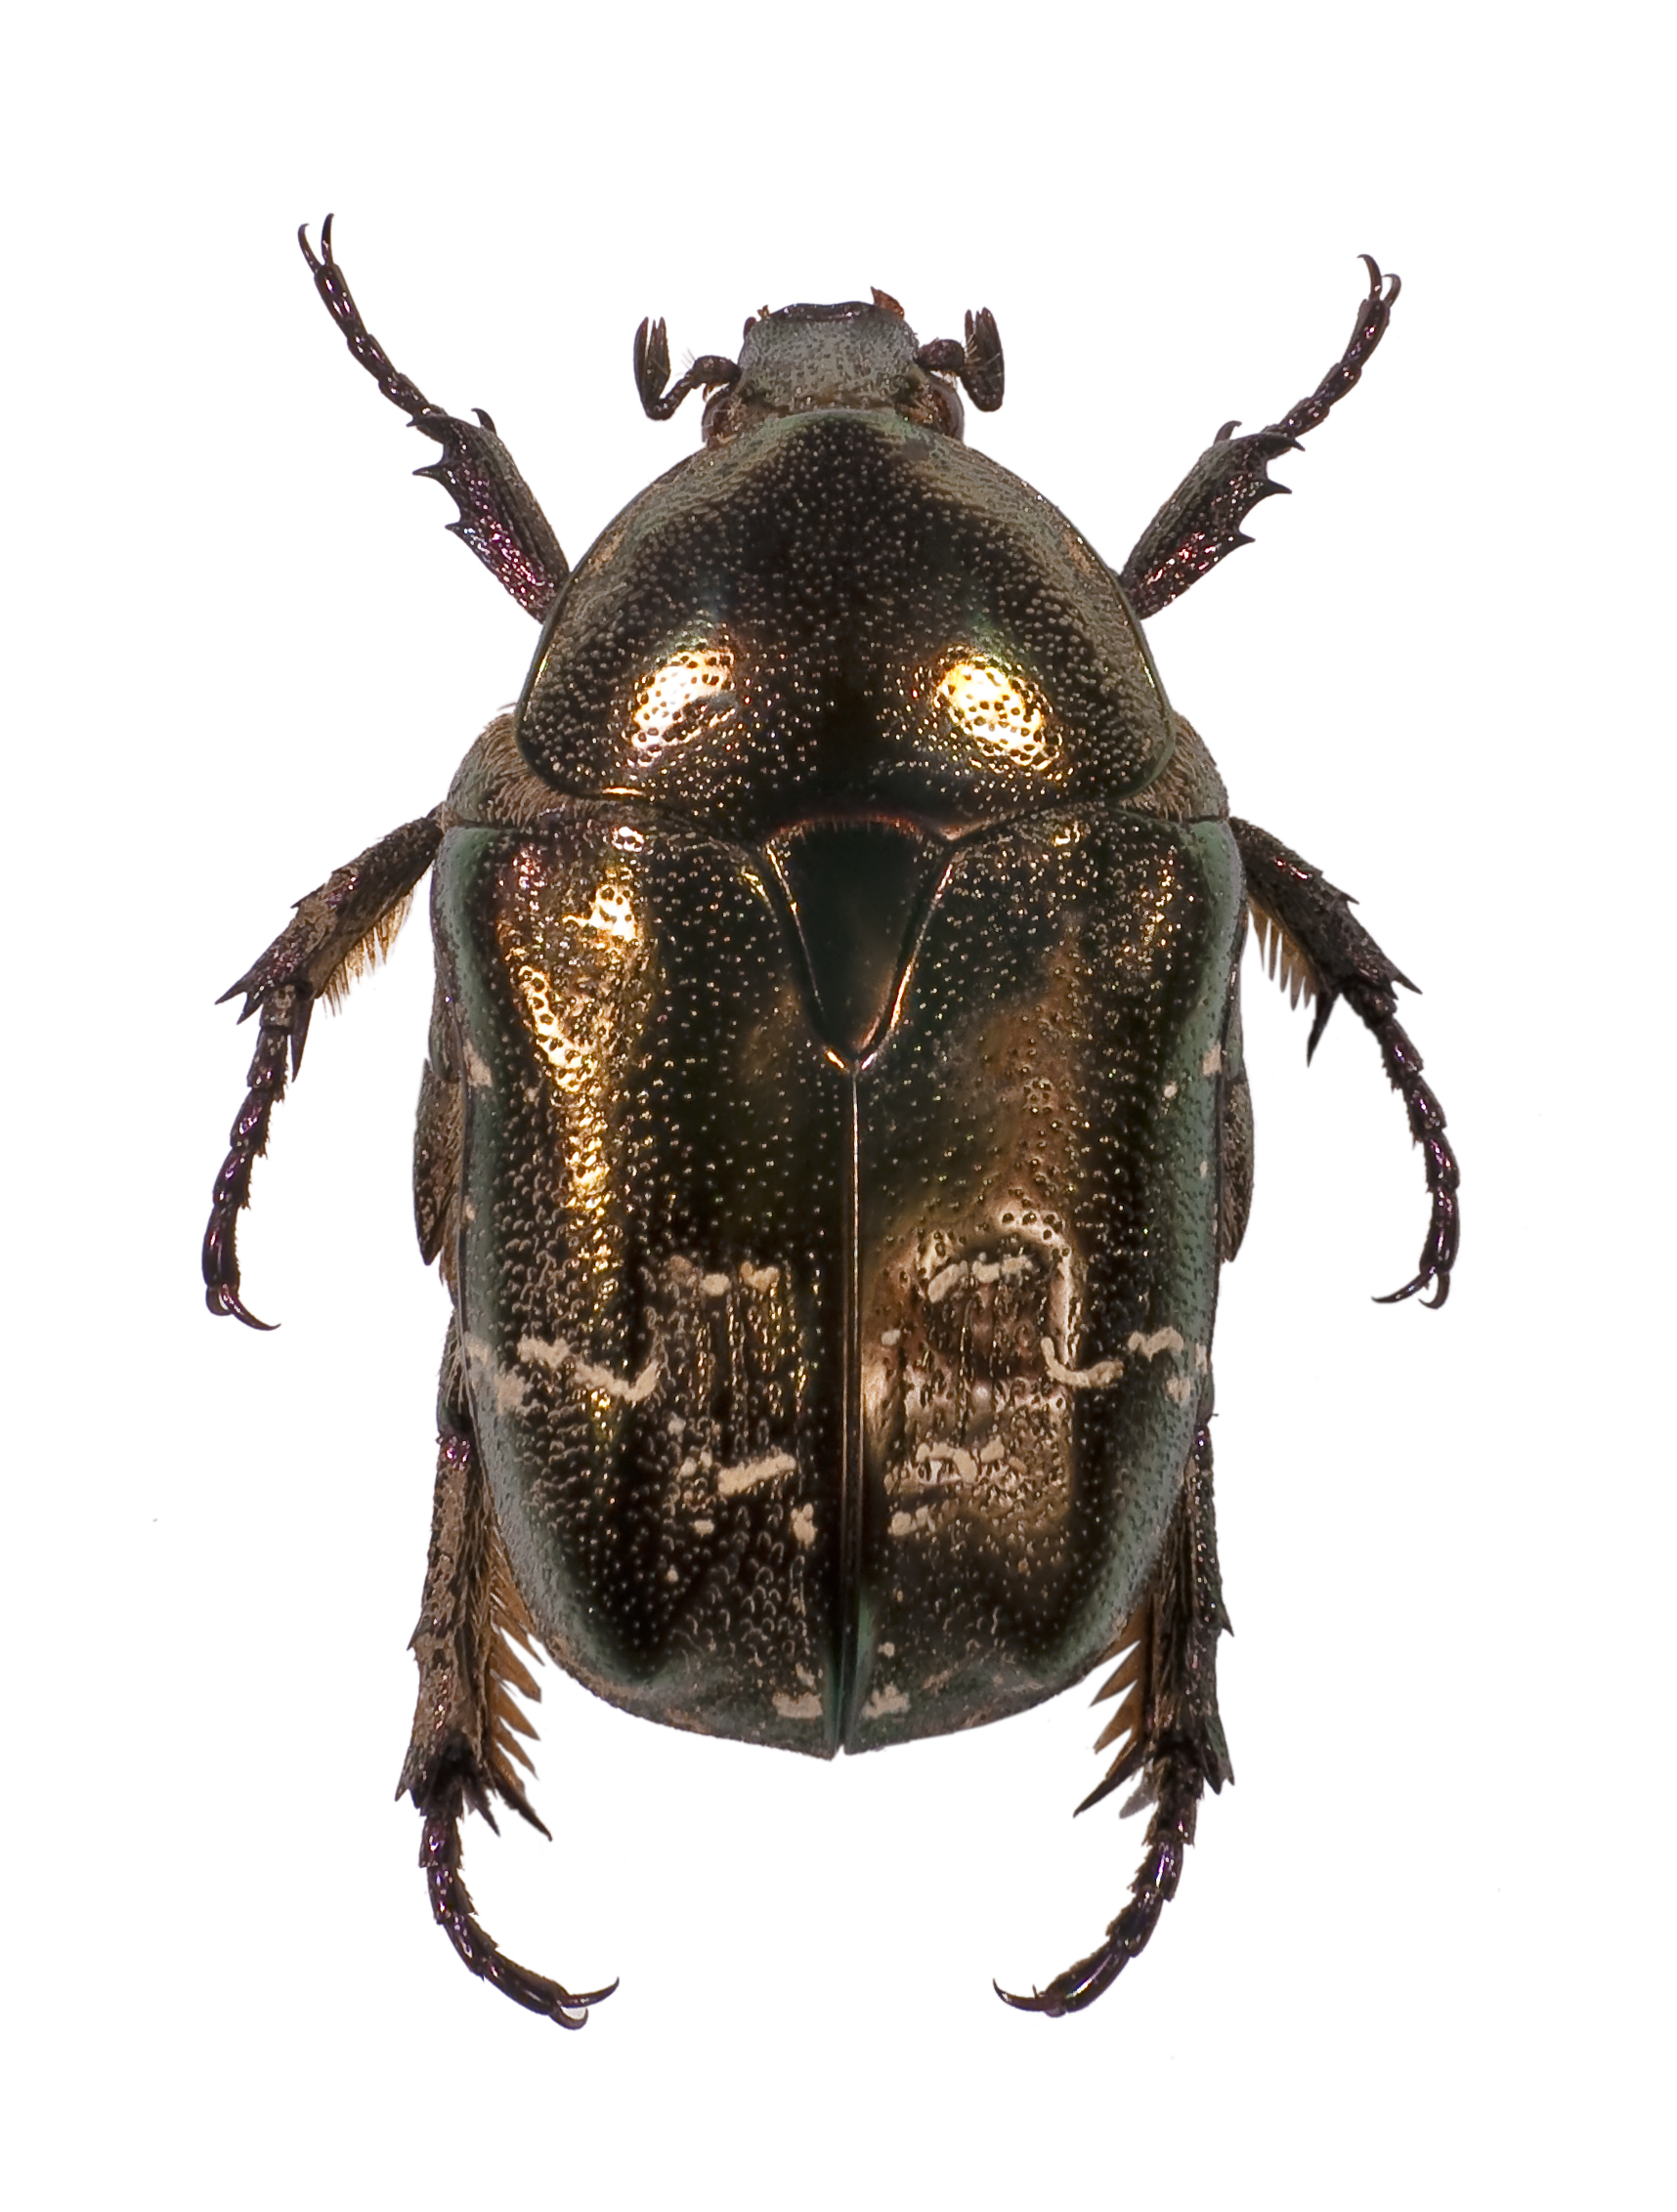Protaetia_fieberi: (139, 213, 1480, 2039)
